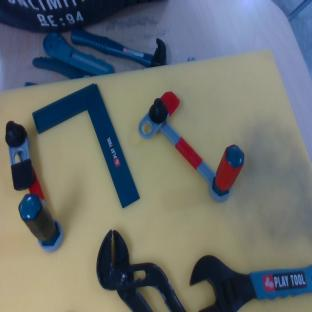non_pass: (0, 117, 68, 257)
pass: (130, 87, 257, 205)
